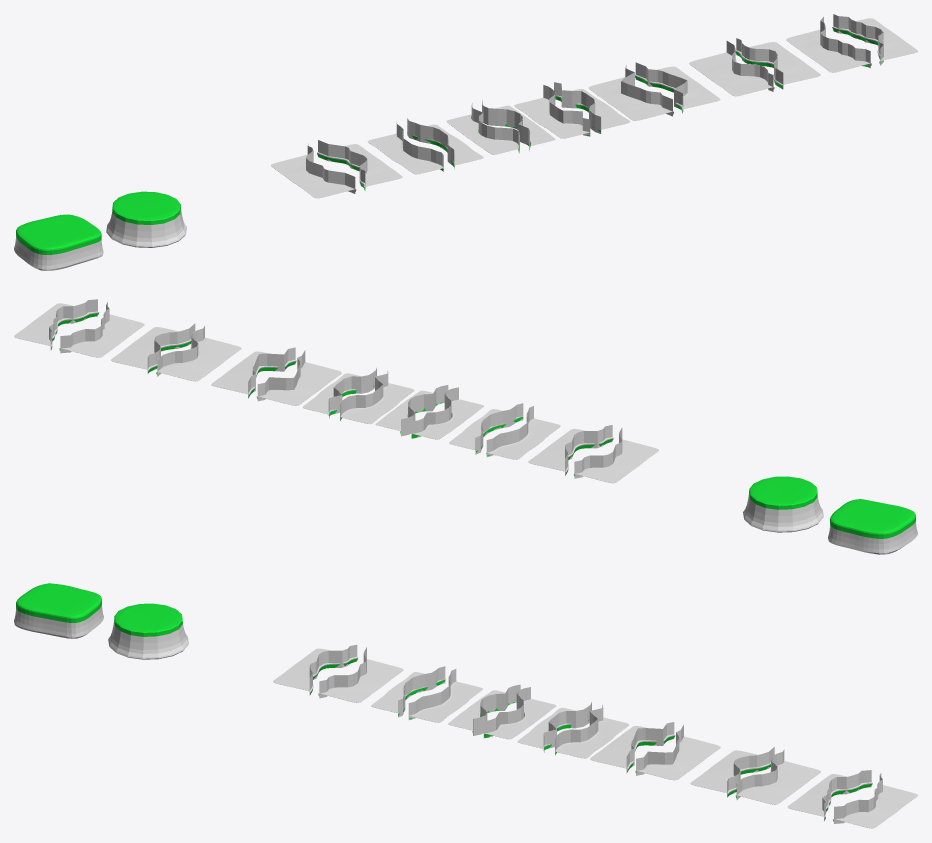
File: New Phantom Path Levels.fbx
The picture shows the model from 3 angles, top to bottom: view 1: azimuth 30°, elevation 25°; view 2: azimuth 150°, elevation 25°; view 3: azimuth 330°, elevation 25°; orthographic projection.
Visible parts, largest first — view 1: Plane, Cube, Plane.014, Plane.006, Plane.020, Plane.016, Plane.013, Plane.004, Plane.018, Plane.019, Plane.002, Plane.015 (+18 smaller); view 2: Plane, Cube, Plane.014, Plane.006, Plane.020, Plane.016, Plane.013, Plane.002, Plane.004, Plane.015, Plane.019, Plane.018 (+18 smaller); view 3: Plane, Cube, Plane.013, Plane.002, Plane.019, Plane.015, Plane.014, Plane.006, Plane.005, Plane.017, Plane.016, Plane.020 (+18 smaller).
Boxes of the visible parts, x1,y1,x2,y2 form: Plane: (14, 214, 103, 270); Cube: (106, 191, 186, 247); Plane.014: (689, 52, 774, 96); Plane.006: (588, 77, 673, 120); Plane.020: (271, 154, 356, 198); Plane.016: (786, 29, 871, 72); Plane.013: (735, 42, 820, 88); Plane.004: (514, 97, 589, 138); Plane.018: (367, 133, 443, 174); Plane.019: (317, 144, 402, 190); Plane.002: (635, 66, 720, 112); Plane.015: (832, 18, 917, 63); Plane: (828, 499, 917, 554); Cube: (743, 476, 823, 532); Plane.014: (156, 337, 241, 381); Plane.006: (256, 362, 341, 405); Plane.020: (573, 439, 658, 483); Plane.016: (59, 314, 144, 357); Plane.013: (111, 327, 191, 373); Plane.002: (211, 351, 296, 397); Plane.004: (340, 383, 414, 423); Plane.015: (14, 303, 99, 349); Plane.019: (528, 428, 613, 474); Plane.018: (486, 418, 560, 459); Plane: (14, 583, 103, 638); Cube: (108, 603, 188, 659); Plane.013: (735, 761, 820, 804); Plane.002: (635, 736, 720, 780); Plane.019: (318, 659, 403, 702); Plane.015: (833, 785, 917, 828); Plane.014: (690, 750, 770, 796); Plane.006: (590, 726, 675, 771); Plane.005: (555, 717, 628, 758); Plane.017: (409, 681, 482, 722); Plane.016: (787, 774, 872, 819); Plane.020: (273, 648, 358, 694).
Bounding box in the file's own units: 6387 × 190 × 600.
